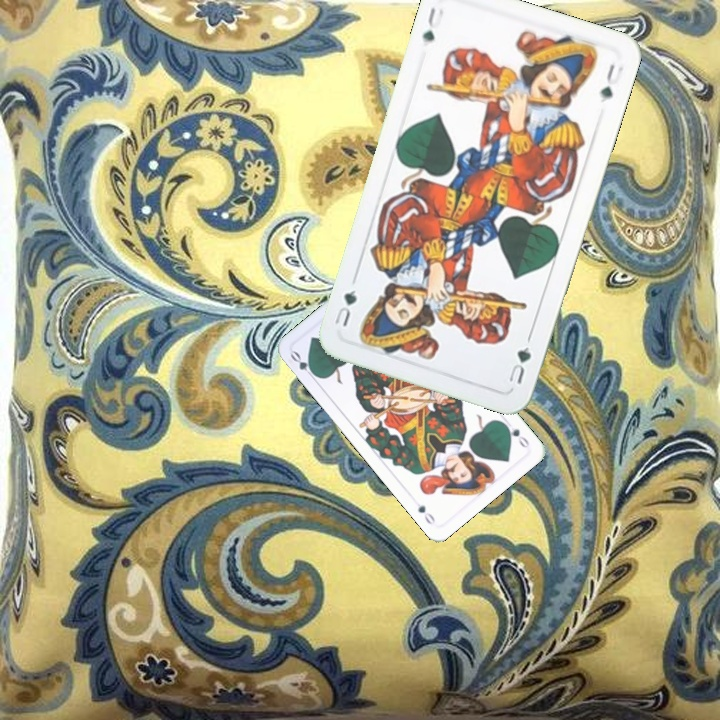GO: (286, 347, 320, 382), (499, 419, 532, 450)
GU: (504, 342, 534, 387), (418, 3, 446, 44)
